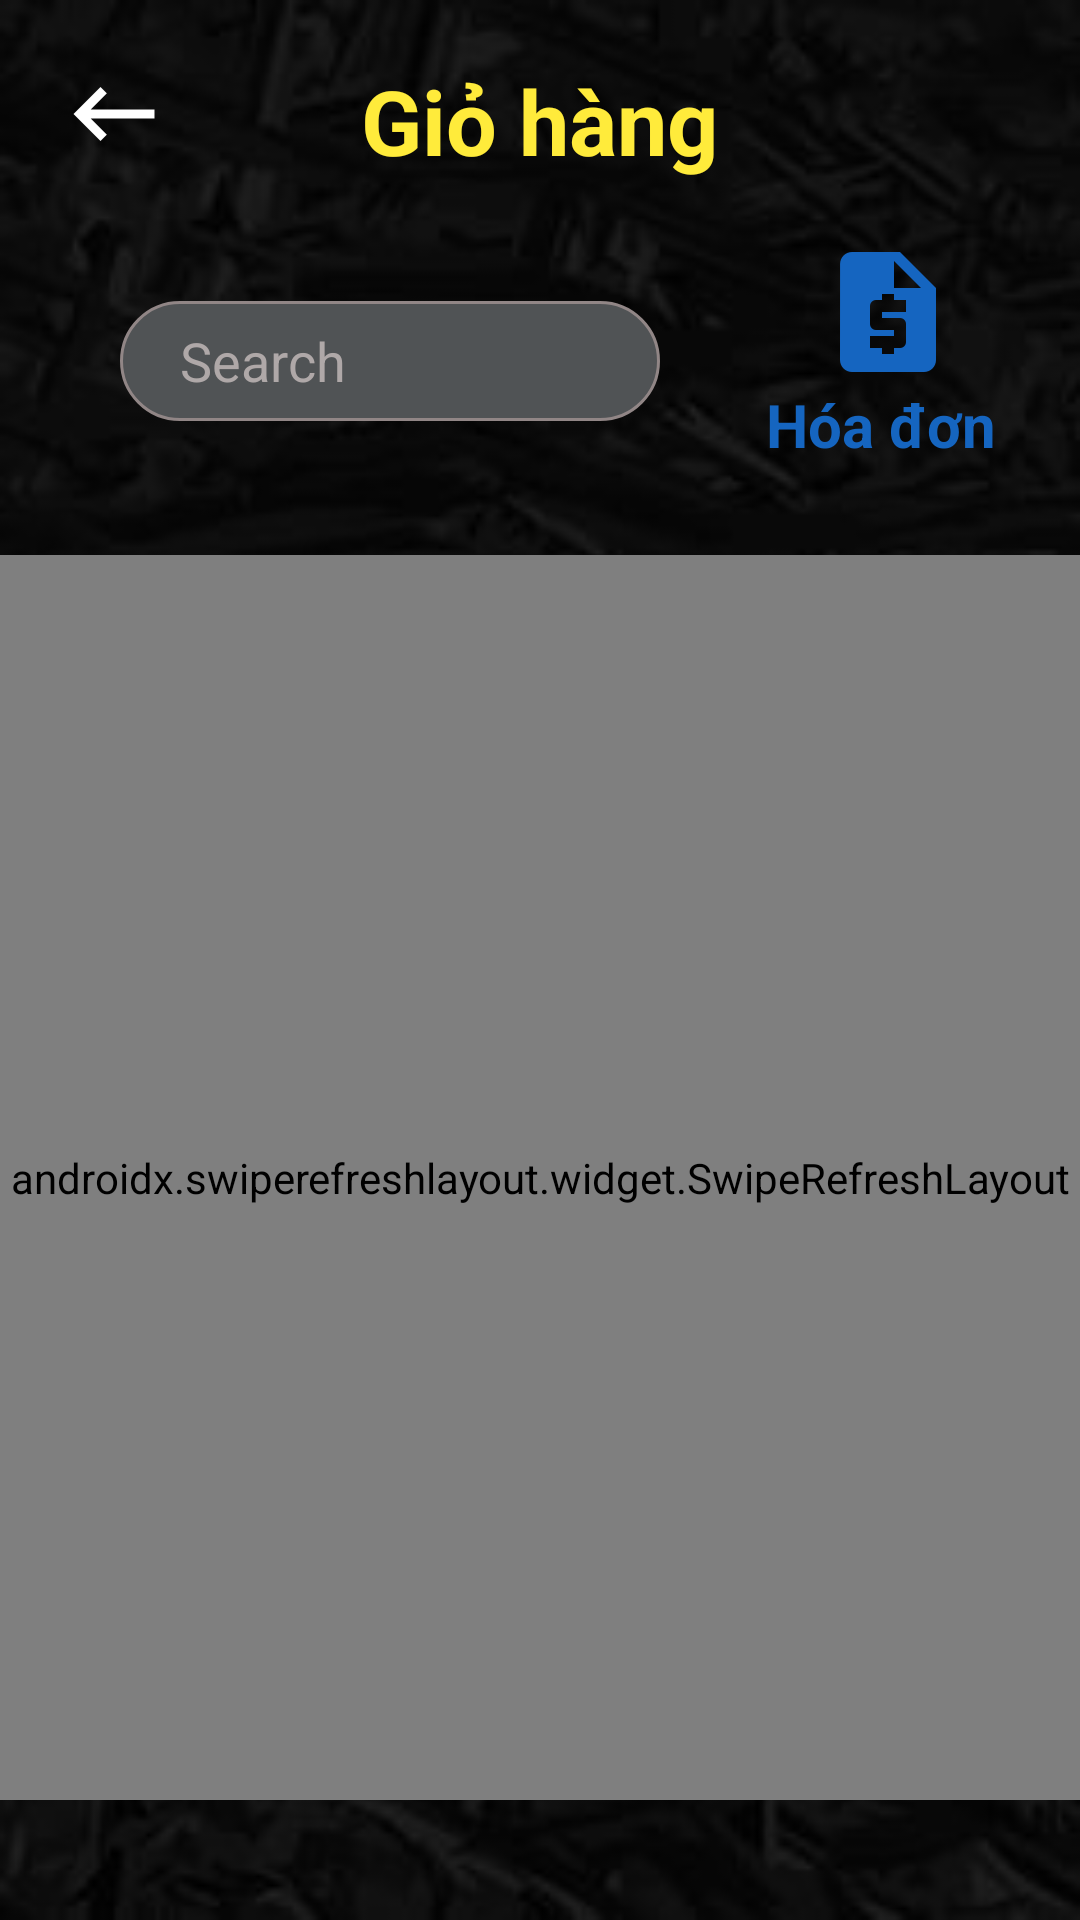

Named icons in this screenshot (1080px x 1920px) and their bounding boxes, detection(x1, y1, x2, y2):
keyboard backspace: detection(73, 87, 155, 141)
request quote: detection(840, 252, 936, 372)
